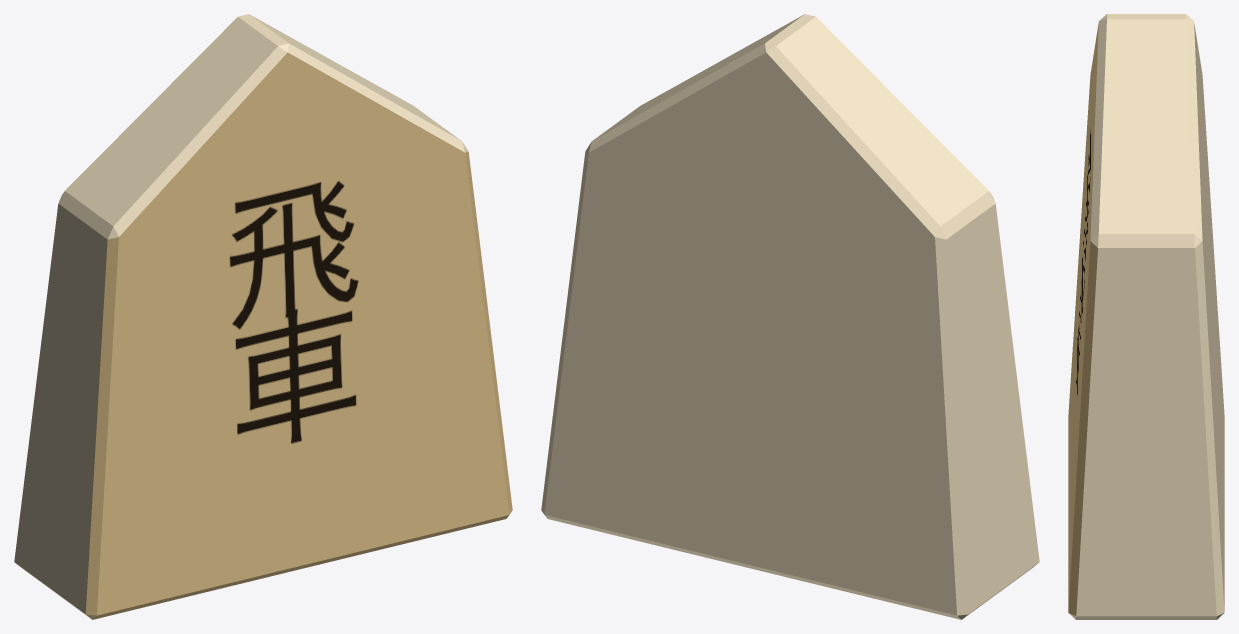
Rendered from Shogi_Rook.glb.
The picture shows the model from 3 angles, left to right: view 1: azimuth 30°, elevation 25°; view 2: azimuth 150°, elevation 25°; view 3: azimuth 270°, elevation 25°; orthographic projection.
Parts seen in each view (by area): view 1: Shogi_Rook; view 2: Shogi_Rook; view 3: Shogi_Rook.
Part boxes in pixels (x1,y1,x2,y2): Shogi_Rook: (14,14,512,619); Shogi_Rook: (541,14,1039,619); Shogi_Rook: (1068,14,1224,619).
Size of the model in its own units: 0.027 by 0.031 by 0.0087.
Materials: 2 (1 with a texture image).
